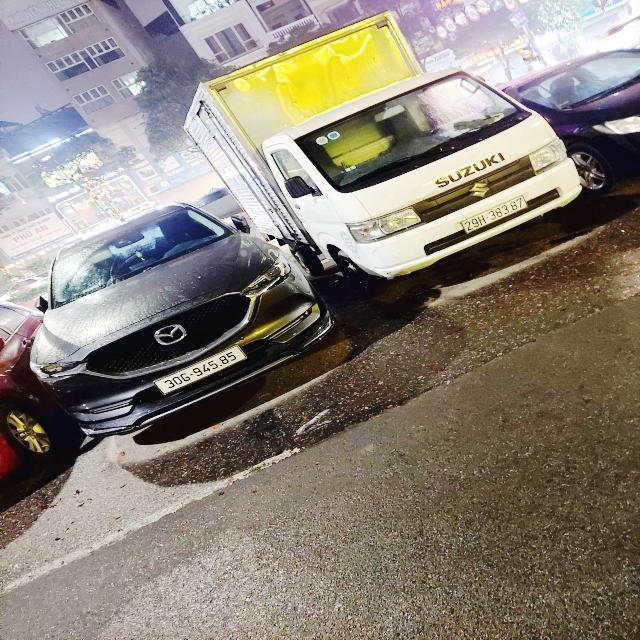license_plate: (148, 343, 252, 399), (458, 193, 532, 238)
